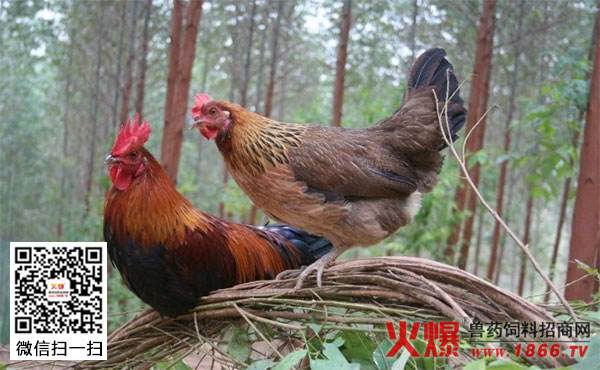chicken: (192, 46, 470, 291), (105, 110, 339, 317)
